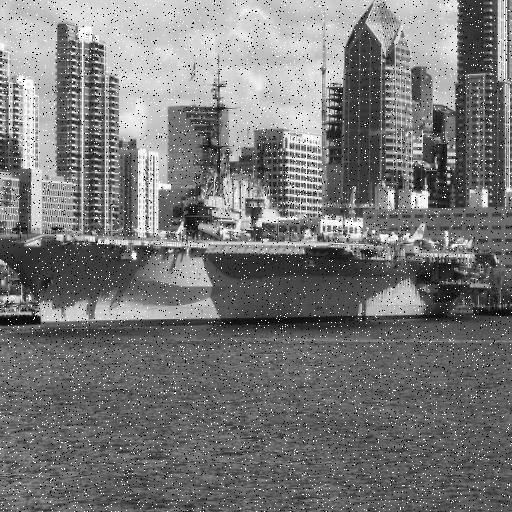Portanaves: (1, 64, 498, 337)
